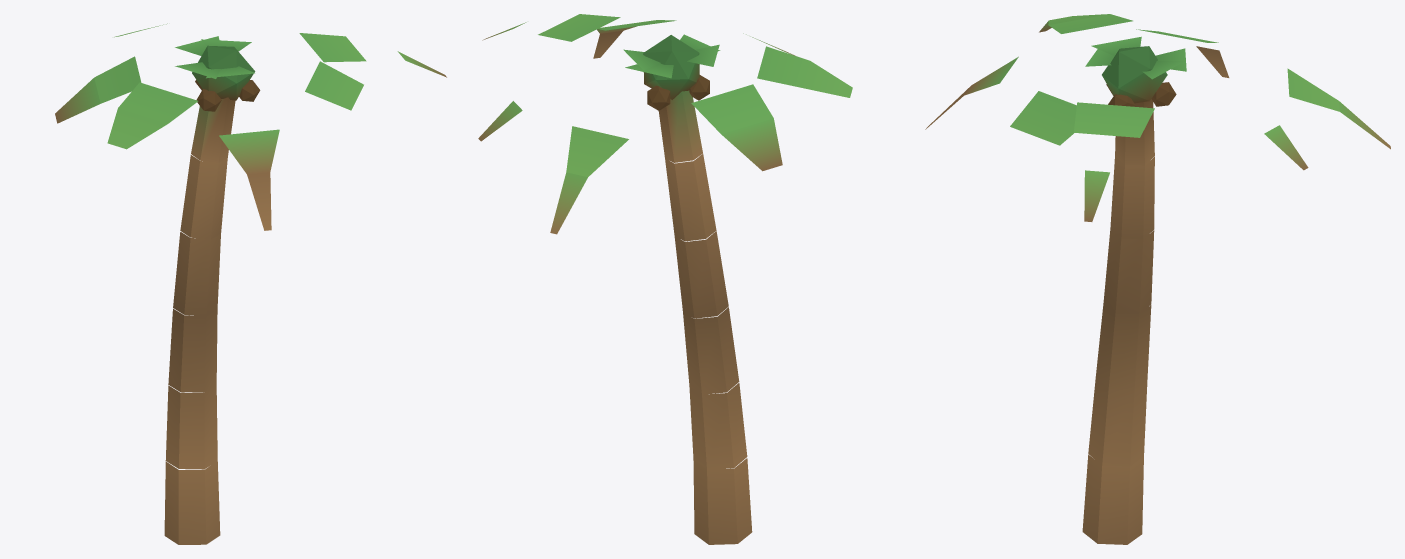
File: palm_1.glb
The picture shows the model from 3 angles, left to right: view 1: azimuth 30°, elevation 25°; view 2: azimuth 150°, elevation 25°; view 3: azimuth 270°, elevation 25°; orthographic projection. The views are drawn at different scales.
Visible parts, largest first — view 1: Palm.001; view 2: Palm.001; view 3: Palm.001.
Boxes of the visible parts, bbox=[...] form: Palm.001: bbox=[55, 23, 446, 544]; Palm.001: bbox=[478, 14, 852, 544]; Palm.001: bbox=[925, 14, 1390, 544].
Bounding box in the file's own units: 4.71 × 5.61 × 4.67.
